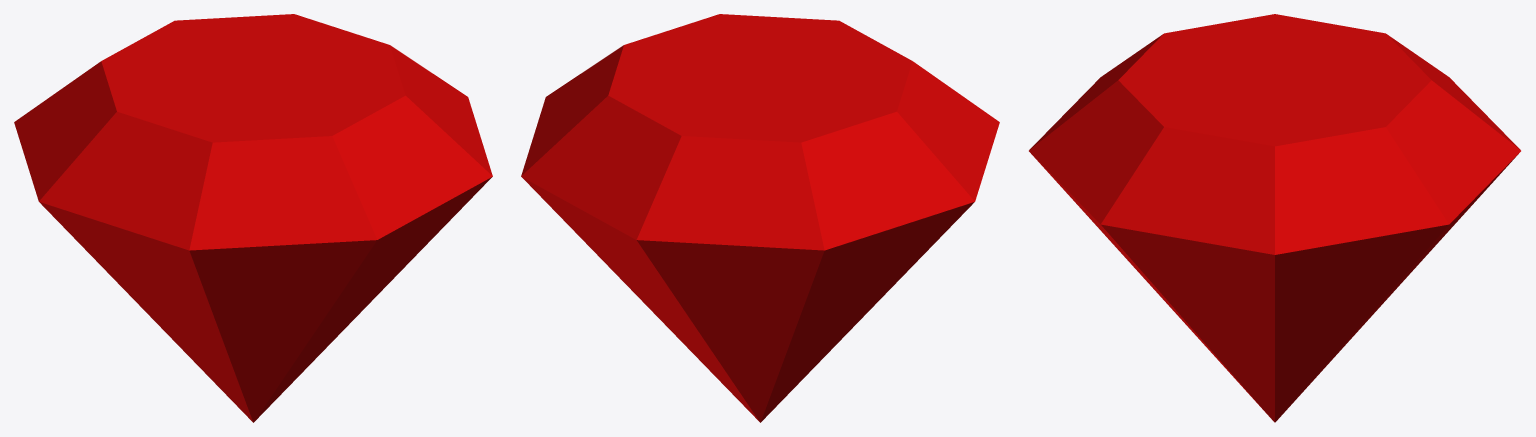
File: ruby.fbx
The picture shows the model from 3 angles, left to right: view 1: azimuth 30°, elevation 25°; view 2: azimuth 150°, elevation 25°; view 3: azimuth 270°, elevation 25°; orthographic projection.
Visible parts, largest first — view 1: Cylinder; view 2: Cylinder; view 3: Cylinder.
Boxes of the visible parts, left/top/right/bottom form: Cylinder: left=14, top=14, right=492, bottom=422; Cylinder: left=521, top=14, right=999, bottom=422; Cylinder: left=1029, top=14, right=1520, bottom=422.
Bounding box in the file's own units: 200 × 153 × 200.
